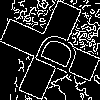D: (25, 25, 81, 77)
